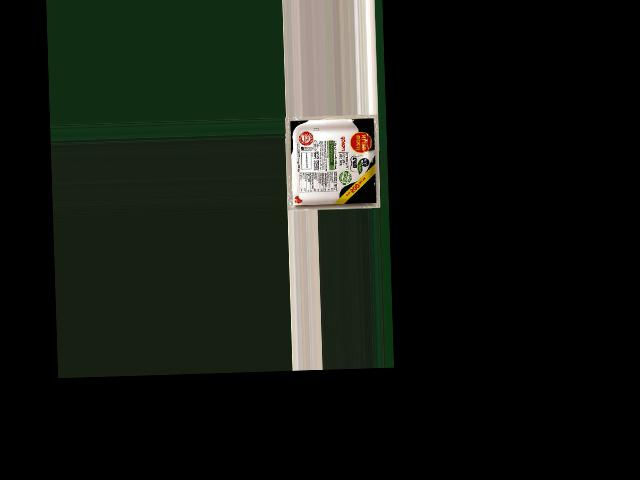cheese: (292, 117, 374, 210)
